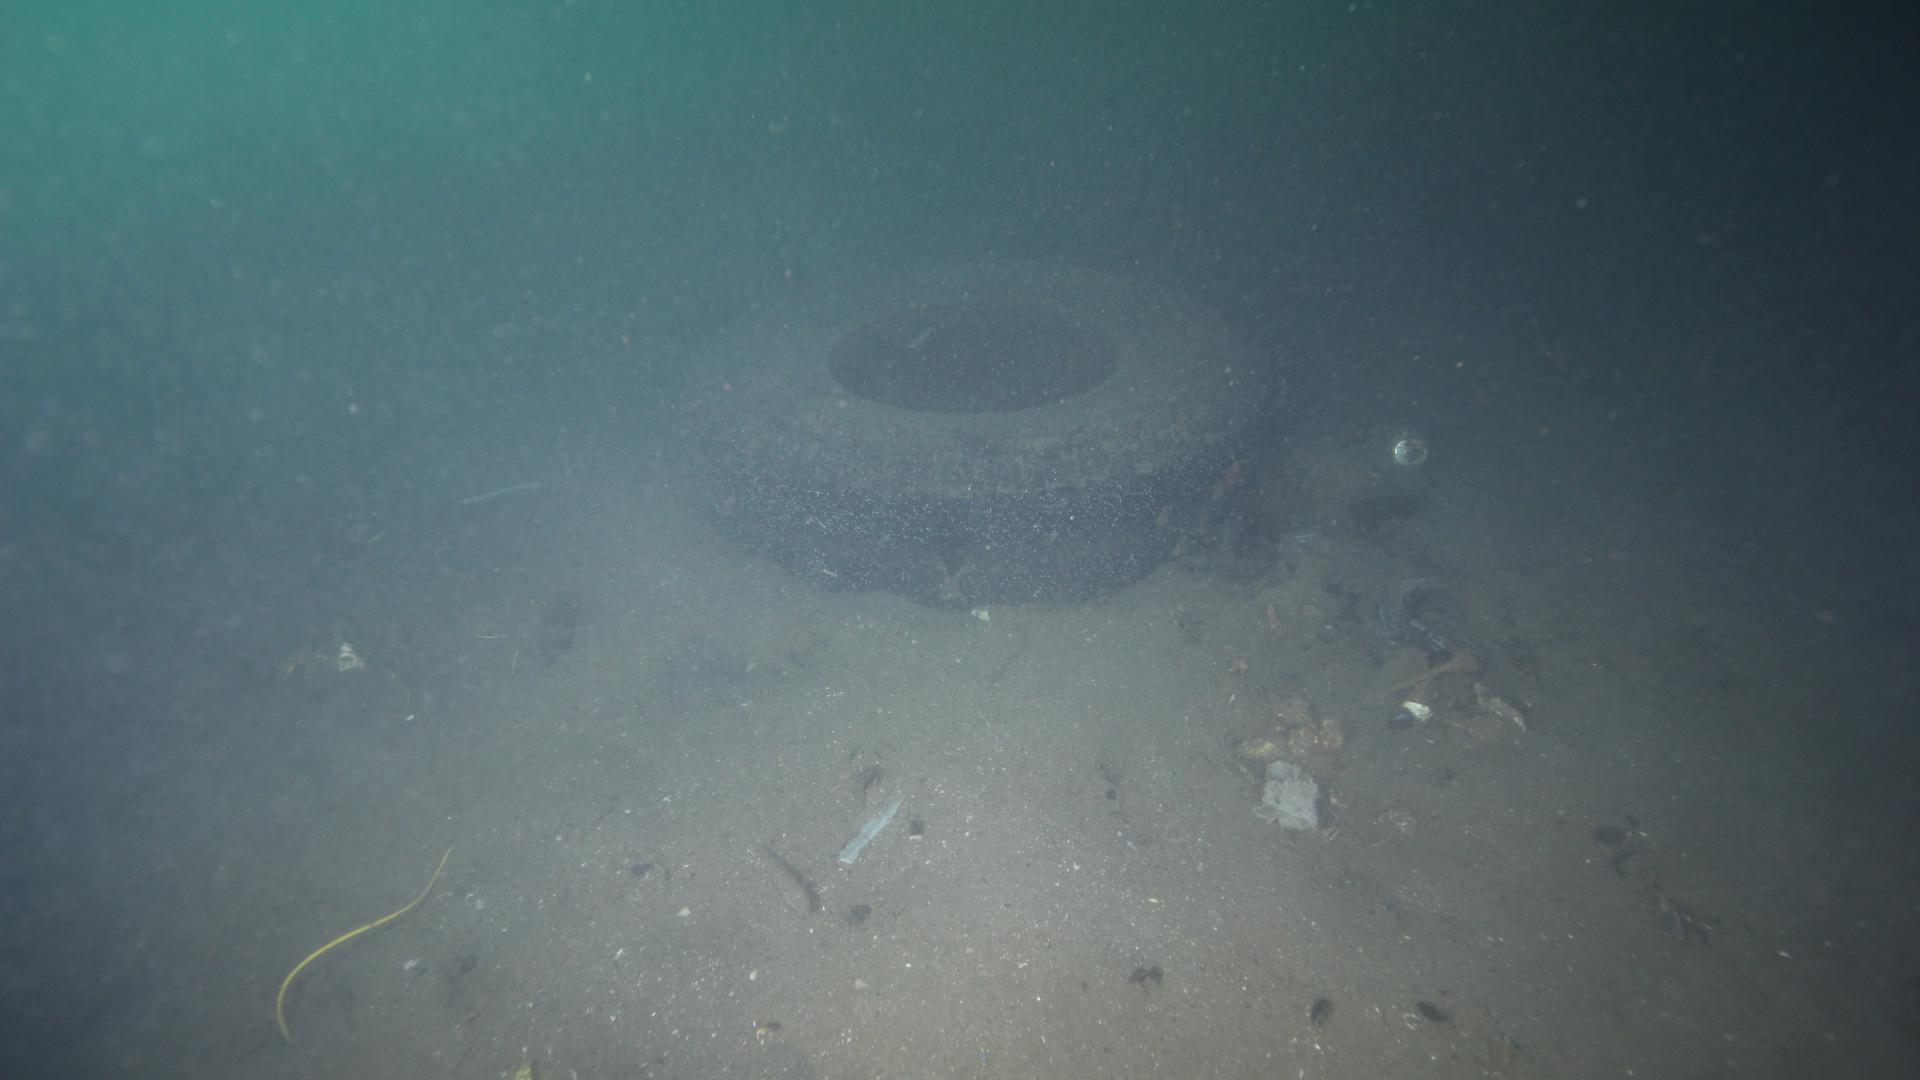tire: (686, 248, 1270, 611)
